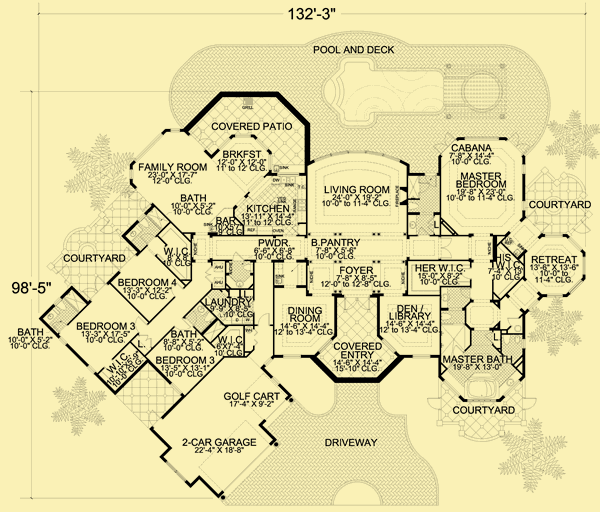door: (525, 207, 550, 231), (80, 274, 102, 298), (343, 296, 371, 313), (440, 237, 452, 257), (574, 222, 593, 234), (522, 395, 538, 409), (426, 396, 441, 408), (256, 312, 269, 325)
small_sink: (406, 214, 418, 237)
windows: (315, 148, 398, 164), (282, 352, 301, 360), (234, 130, 252, 137)
